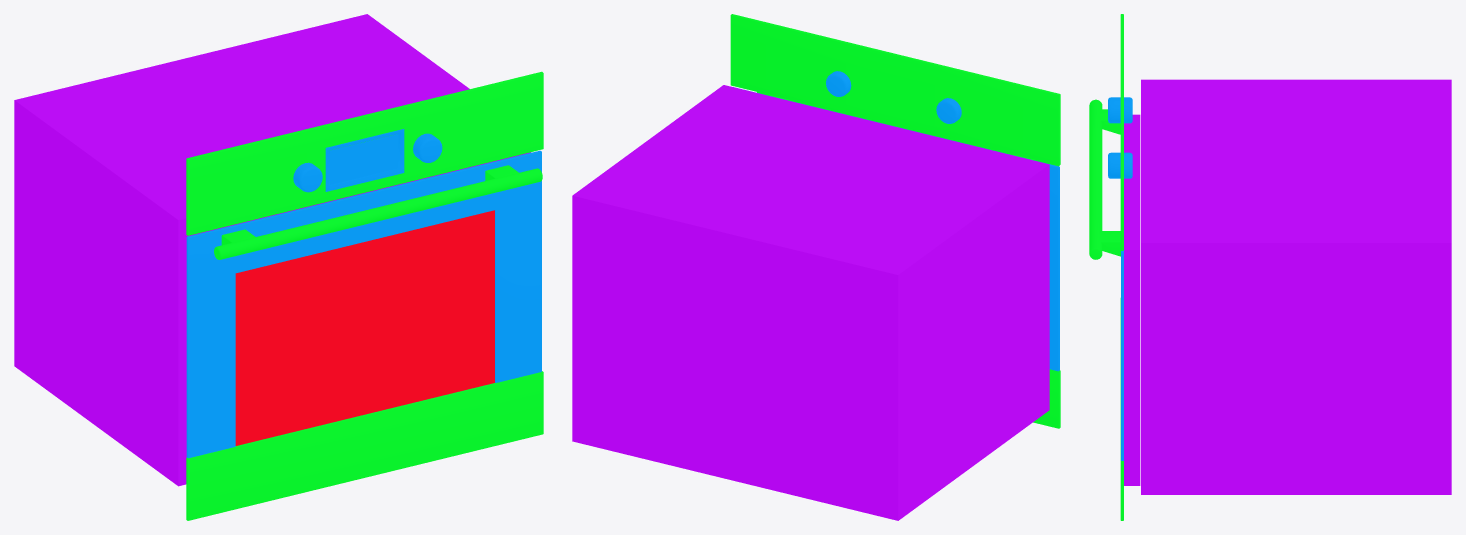
The model's file is OvenFinal.fbx.
3 views of the same model, side by side, from view 1: azimuth 30°, elevation 25°; view 2: azimuth 150°, elevation 25°; view 3: azimuth 270°, elevation 25° (orthographic). The views are drawn at different scales.
Visible parts, largest first — view 1: Glass; view 2: Glass; view 3: Glass.
Part boxes in pixels (x1=…): Glass: x1=14, y1=14, x2=543, y2=520; Glass: x1=572, y1=14, x2=1060, y2=520; Glass: x1=1089, y1=14, x2=1451, y2=520.
Bounding box in the file's own units: 59.5 × 57.78 × 55.33.
